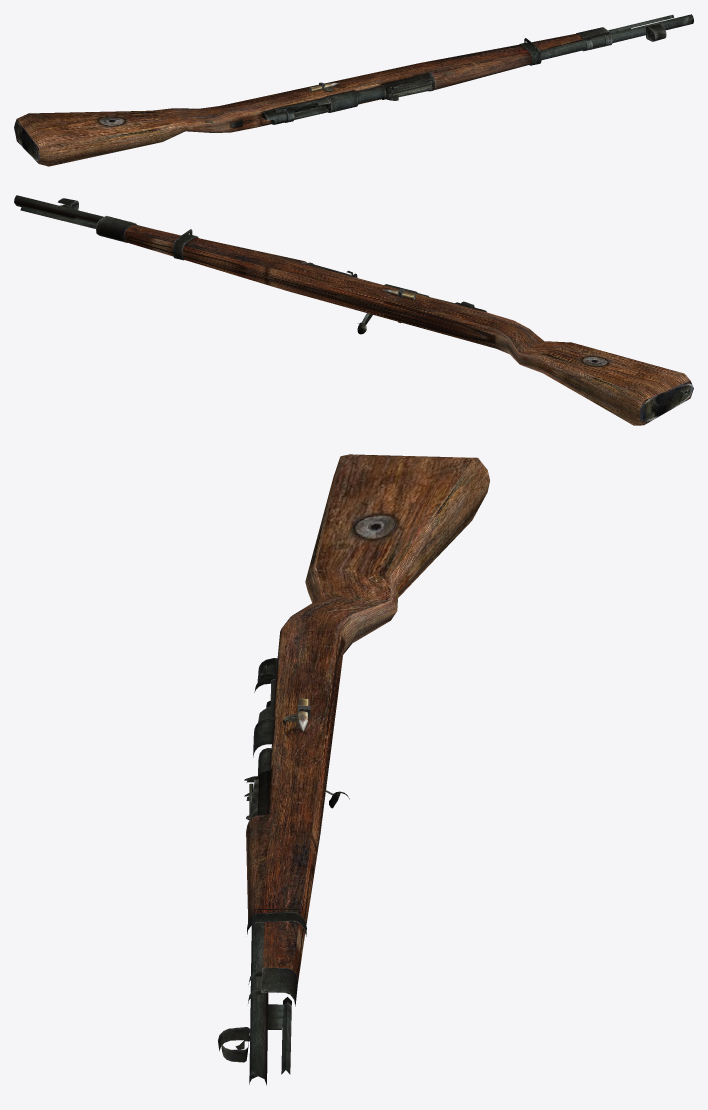
File: viewmodel_kar98k.glb
The picture shows the model from 3 angles, top to bottom: view 1: azimuth 30°, elevation 25°; view 2: azimuth 150°, elevation 25°; view 3: azimuth 270°, elevation 25°; orthographic projection. The views are drawn at different scales.
Bounding box in the file's own units: 50.64 × 3.06 × 9.46.
Materials: 3 (3 with a texture image).
